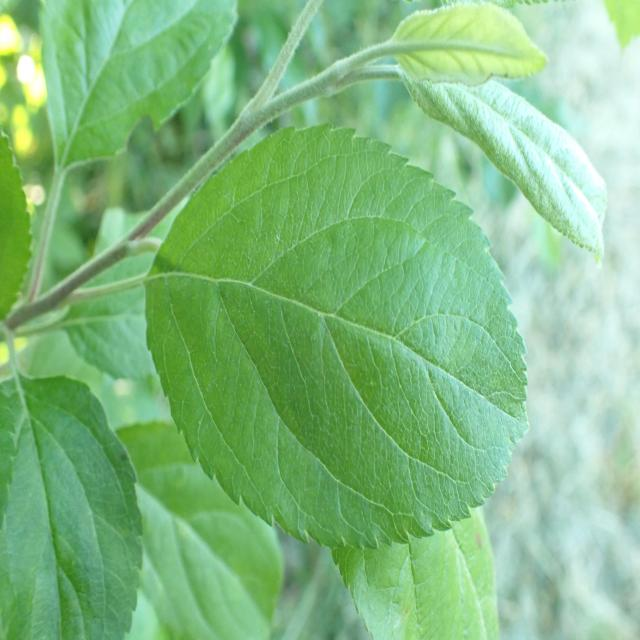healthy: (145, 122, 530, 550), (0, 374, 144, 640), (113, 420, 284, 640), (39, 0, 239, 166), (331, 508, 499, 640), (0, 126, 34, 322)
